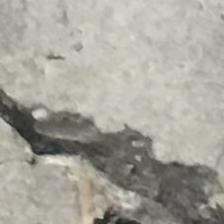Crack: (0, 78, 224, 224)
